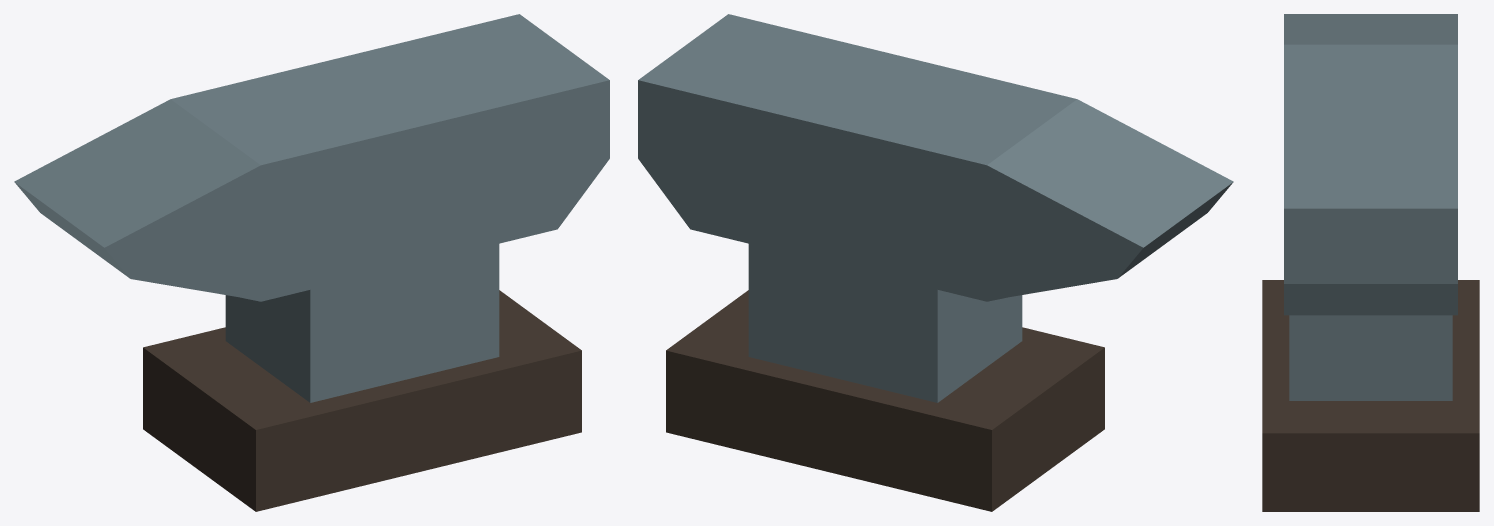
File: anvil.glb
3 renders of one model, left to right at view 1: azimuth 30°, elevation 25°; view 2: azimuth 150°, elevation 25°; view 3: azimuth 270°, elevation 25°, orthographic. The views are drawn at different scales.
Visible parts, largest first — view 1: anvil; view 2: anvil; view 3: anvil.
Part boxes in pixels (bbox=[...]): anvil: bbox=[14, 14, 609, 511]; anvil: bbox=[638, 14, 1233, 511]; anvil: bbox=[1262, 14, 1479, 511].
Size of the model in its own units: 1.55 by 0.98 by 0.6.
